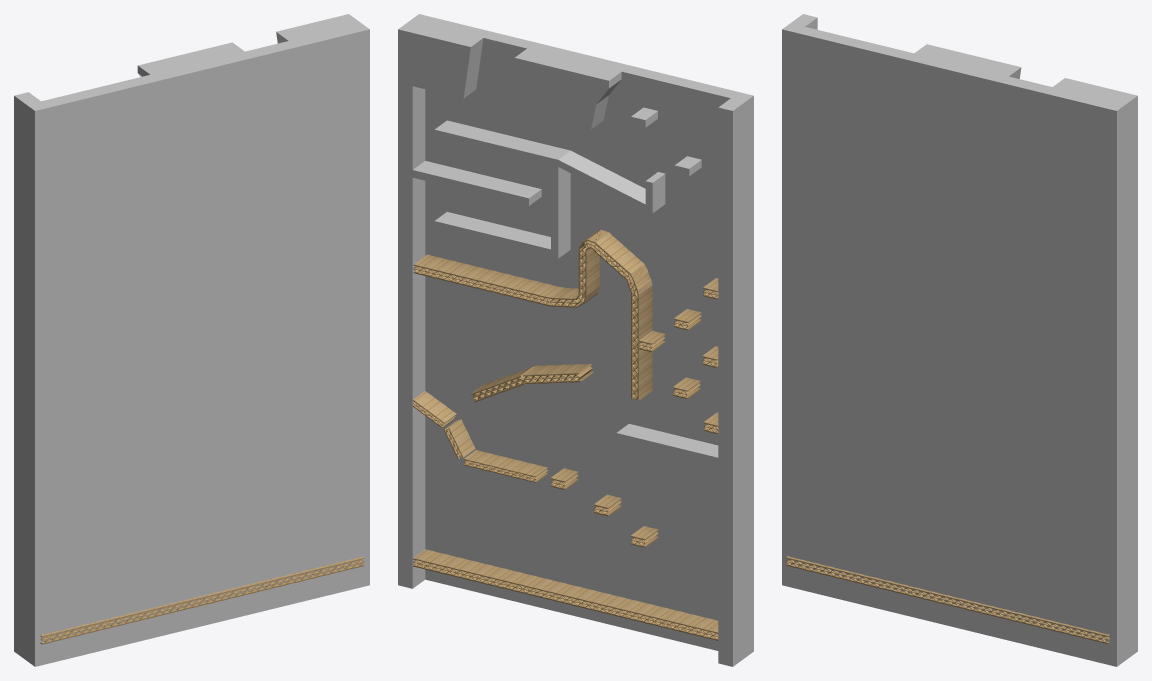
File: UnityImport.fbx
3 views of the same model, side by side, from view 1: azimuth 30°, elevation 25°; view 2: azimuth 150°, elevation 25°; view 3: azimuth 330°, elevation 25° (orthographic).
Parts seen in each view (by area): view 1: Wall_back, Wall_right, Wall_rleft, cardboardfloor, Step__18_, Step__16_; view 2: Wall_back, Wall_right, Wall_rleft, cardboardplatform2, cardboardfloor, Step__18_, Step__16_, cardboardplatform_temporary, Cube__5_, Step__14_, Step__15_, Step__12_ (+5 smaller); view 3: Wall_back, Wall_rleft, Wall_right, cardboardfloor, Step__18_, Step__16_.
Boxes of the visible parts, x1,y1,x2,y2 form: Wall_back: (41,27,355,663); Wall_right: (14,92,49,666); Wall_rleft: (334,14,369,588); cardboardfloor: (40,556,364,644); Step__18_: (145,42,244,72); Step__16_: (276,17,346,43); Wall_back: (425,17,738,650); Wall_right: (718,92,753,666); Wall_rleft: (398,14,433,588); cardboardplatform2: (413,229,652,400); cardboardfloor: (413,549,718,640); Step__18_: (514,48,613,129); Step__16_: (412,23,483,98); cardboardplatform_temporary: (413,391,547,482); Cube__5_: (645,431,718,487); Step__14_: (412,161,541,205); Step__15_: (434,120,563,165); Step__12_: (434,212,550,256); Wall_back: (796,27,1110,663); Wall_rleft: (1102,92,1137,666); Wall_right: (782,14,817,588); cardboardfloor: (786,556,1109,643); Step__18_: (922,46,1021,78); Step__16_: (1053,78,1122,101).
Bounding box in the file's own units: 2300 × 3650 × 280.
